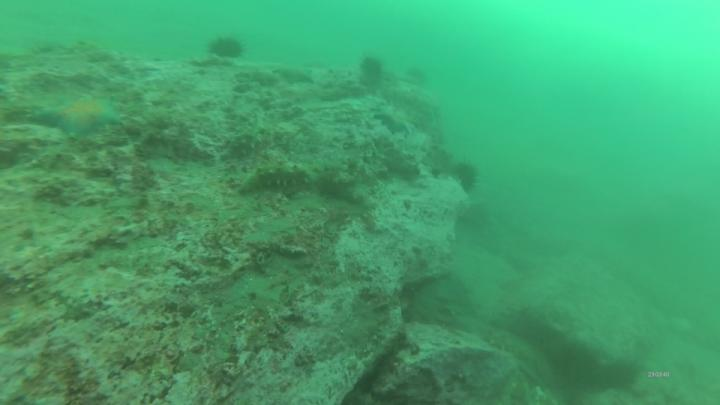echinus: (456, 161, 480, 194), (209, 39, 245, 58), (359, 57, 384, 76)
holothurian: (242, 162, 352, 192)
starfish: (38, 95, 121, 139)
